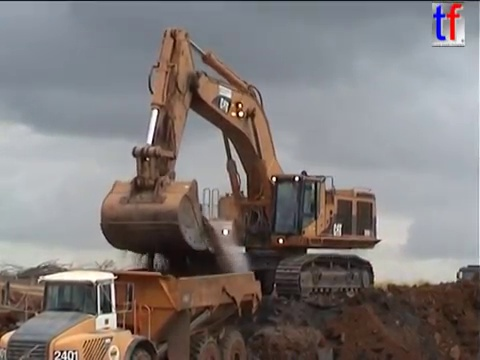excavator: (96, 25, 383, 309)
truck: (1, 266, 264, 360), (454, 262, 480, 300)
